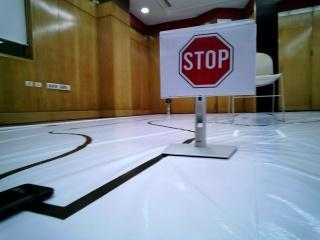stop: (155, 30, 250, 94)
